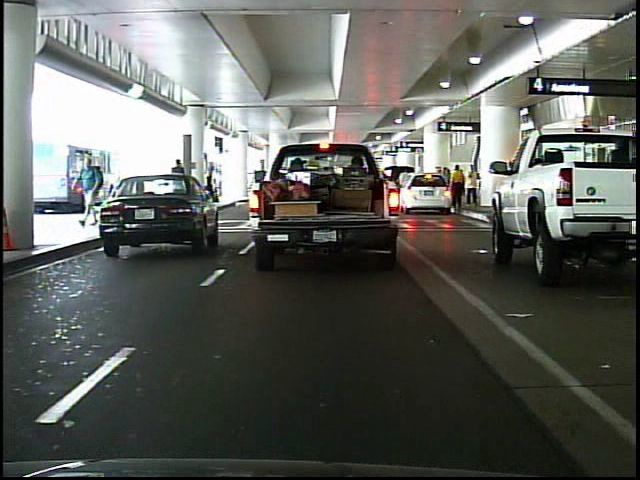person: (74, 152, 100, 227), (444, 160, 471, 220), (168, 154, 193, 212)
